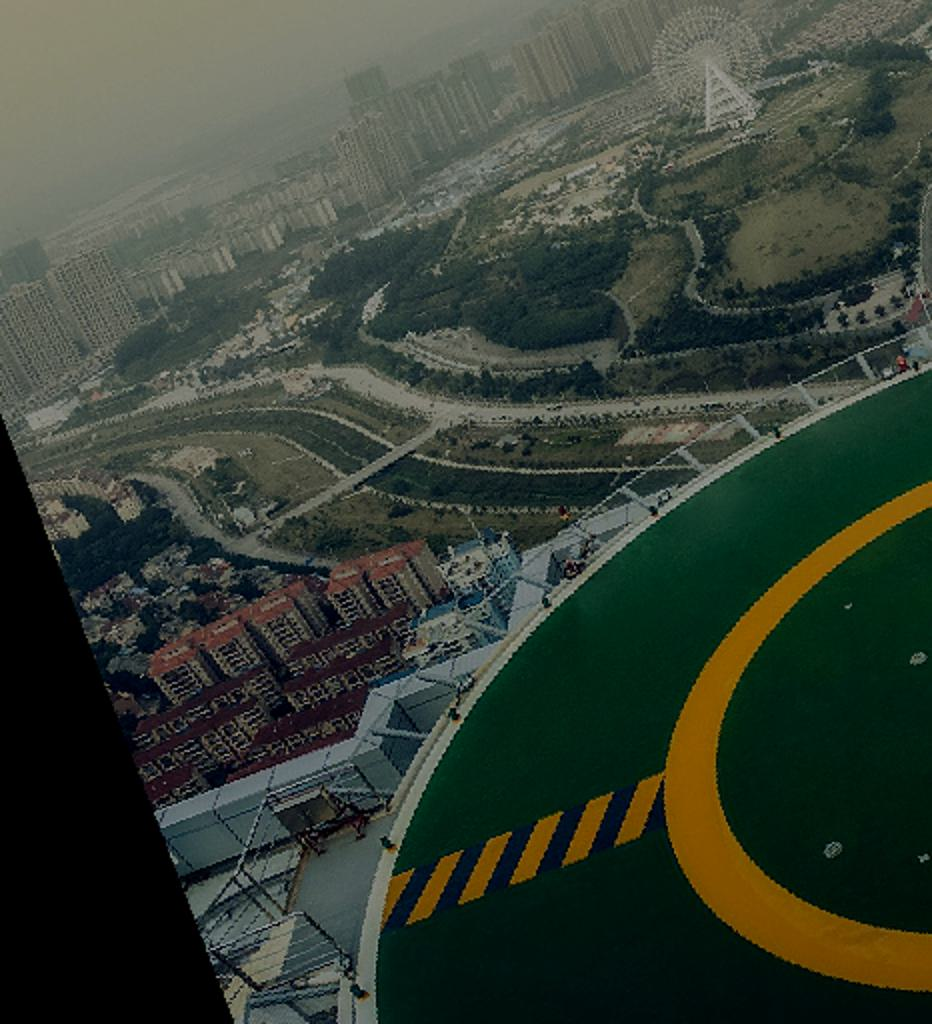Apron: (642, 444, 932, 1009)
